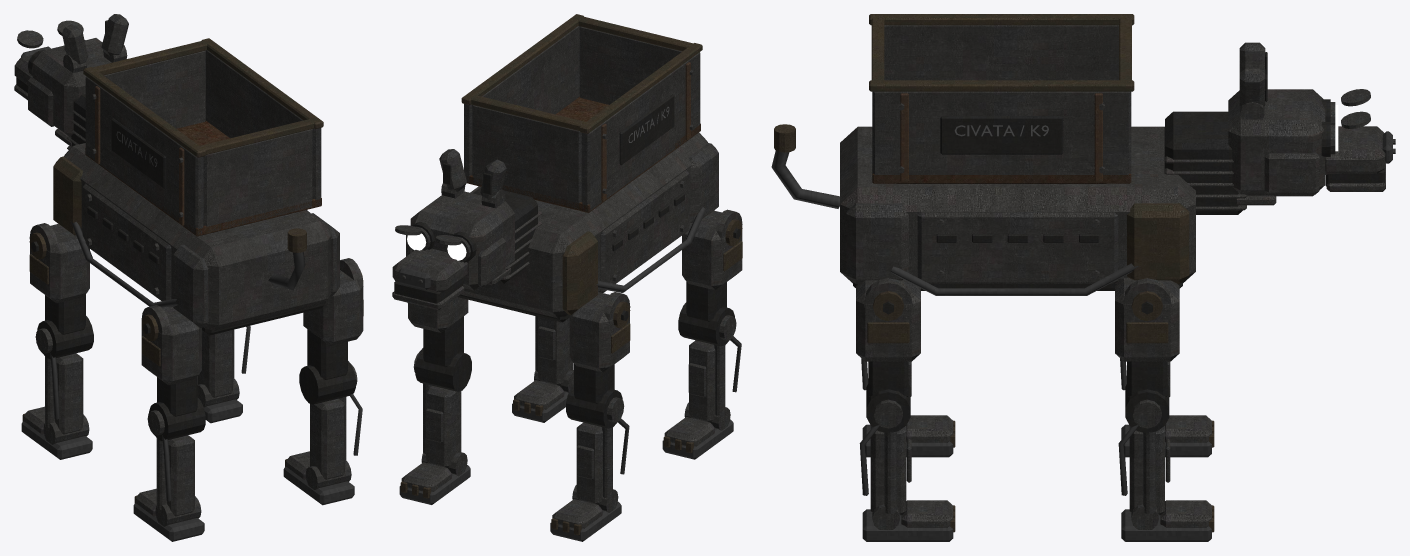
The model's file is civata-k9.glb.
The picture shows the model from 3 angles, left to right: view 1: azimuth 30°, elevation 25°; view 2: azimuth 150°, elevation 25°; view 3: azimuth 270°, elevation 25°; orthographic projection. The views are drawn at different scales.
Visible parts, largest first — view 1: Skin_Cargo_Visual, Skin_Body_Visual, Skin_Head_Visual, Skin_RL_Upper_Visual, Skin_FL_Upper_Visual, Skin_RR_Lower_Visual, Skin_RR_Upper_Visual, Skin_RL_Lower_Visual, Skin_FL_Lower_Visual, Skin_FR_Lower_Visual, Skin_RR_Foot_Visual, Skin_RL_Foot_Visual (+2 smaller); view 2: Skin_Cargo_Visual, Skin_Body_Visual, Skin_Head_Visual, Skin_FL_Upper_Visual, Skin_RL_Upper_Visual, Skin_RL_Lower_Visual, Skin_FL_Lower_Visual, Skin_FR_Lower_Visual, Skin_FR_Upper_Visual, Skin_FR_Foot_Visual, Skin_RL_Foot_Visual, Skin_FL_Foot_Visual (+3 smaller); view 3: Skin_Body_Visual, Skin_Cargo_Visual, Skin_Head_Visual, Skin_FR_Upper_Visual, Skin_RR_Upper_Visual, Skin_RR_Lower_Visual, Skin_FR_Lower_Visual, Skin_RR_Foot_Visual, Skin_FR_Foot_Visual, Skin_RL_Foot_Visual, Skin_FL_Foot_Visual.
Part boxes in pixels (x1=…): Skin_Cargo_Visual: x1=83, y1=38, x2=323, y2=236; Skin_Body_Visual: x1=53, y1=94, x2=339, y2=335; Skin_Head_Visual: x1=14, y1=14, x2=128, y2=146; Skin_RL_Upper_Visual: x1=141, y1=305, x2=201, y2=416; Skin_FL_Upper_Visual: x1=29, y1=223, x2=89, y2=334; Skin_RR_Lower_Visual: x1=299, y1=361, x2=362, y2=479; Skin_RR_Upper_Visual: x1=303, y1=258, x2=363, y2=379; Skin_RL_Lower_Visual: x1=147, y1=397, x2=205, y2=516; Skin_FL_Lower_Visual: x1=35, y1=316, x2=93, y2=434; Skin_FR_Lower_Visual: x1=198, y1=325, x2=250, y2=397; Skin_RR_Foot_Visual: x1=283, y1=451, x2=354, y2=505; Skin_RL_Foot_Visual: x1=133, y1=488, x2=204, y2=541; Skin_Cargo_Visual: x1=461, y1=14, x2=702, y2=212; Skin_Body_Visual: x1=457, y1=132, x2=718, y2=322; Skin_Head_Visual: x1=392, y1=149, x2=514, y2=303; Skin_FL_Upper_Visual: x1=569, y1=292, x2=630, y2=403; Skin_RL_Upper_Visual: x1=682, y1=209, x2=742, y2=321; Skin_RL_Lower_Visual: x1=678, y1=302, x2=741, y2=422; Skin_FL_Lower_Visual: x1=566, y1=385, x2=629, y2=504; Skin_FR_Lower_Visual: x1=413, y1=348, x2=471, y2=467; Skin_FR_Upper_Visual: x1=408, y1=297, x2=468, y2=367; Skin_FR_Foot_Visual: x1=399, y1=452, x2=470, y2=504; Skin_RL_Foot_Visual: x1=662, y1=402, x2=733, y2=459; Skin_FL_Foot_Visual: x1=550, y1=485, x2=621, y2=541; Skin_Body_Visual: x1=771, y1=111, x2=1246, y2=295; Skin_Cargo_Visual: x1=869, y1=14, x2=1134, y2=183; Skin_Head_Visual: x1=1228, y1=42, x2=1395, y2=205; Skin_FR_Upper_Visual: x1=1115, y1=278, x2=1179, y2=396; Skin_RR_Upper_Visual: x1=856, y1=278, x2=920, y2=396; Skin_RR_Lower_Visual: x1=859, y1=384, x2=911, y2=515; Skin_FR_Lower_Visual: x1=1118, y1=384, x2=1170, y2=515; Skin_RR_Foot_Visual: x1=862, y1=500, x2=955, y2=541; Skin_FR_Foot_Visual: x1=1121, y1=500, x2=1214, y2=541; Skin_RL_Foot_Visual: x1=862, y1=415, x2=955, y2=457; Skin_FL_Foot_Visual: x1=1121, y1=415, x2=1214, y2=457.
Size of the model in its own units: 0.882 by 1.51 by 1.93.
8 materials, 8 textured.
